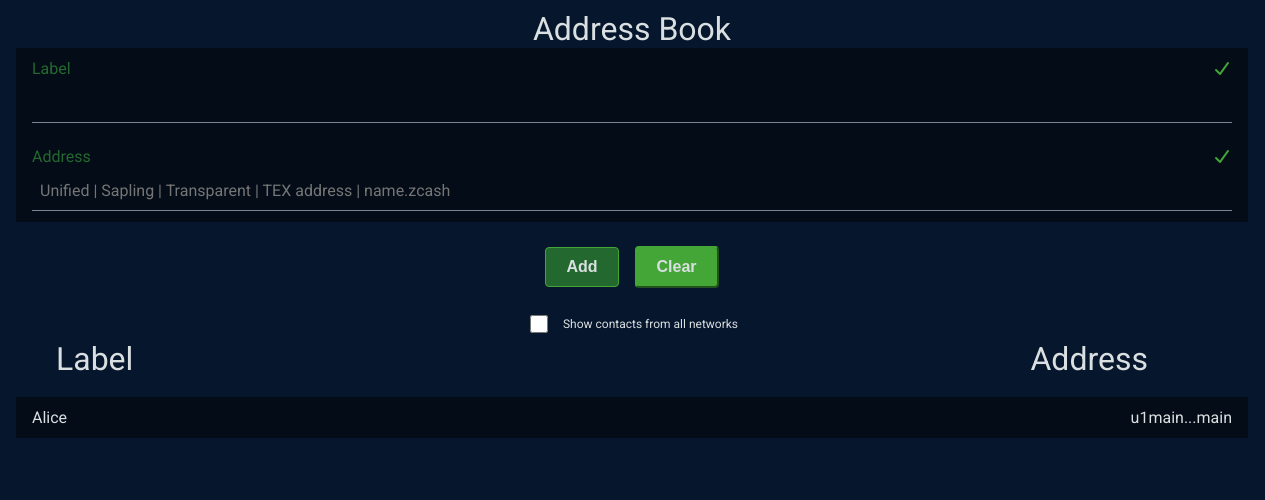
AddressBook › shows entries from all networks when 'Show contacts from all networks' is checked
Expected: the text "Tester" is not shown
Click the checkbox named "Show contacts from all networks": x=539, y=324 [530, 315, 548, 333]
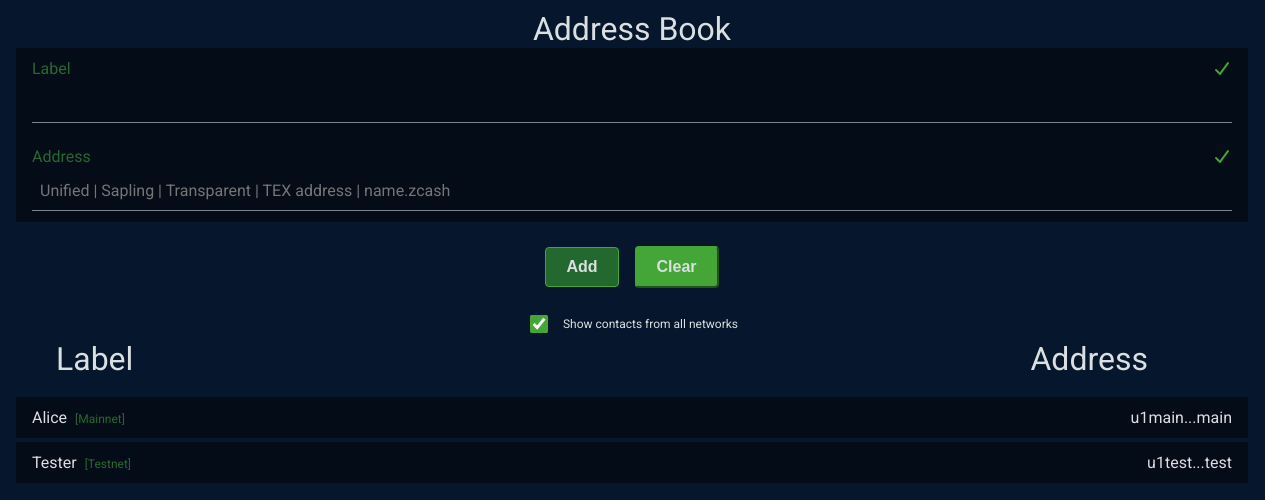
Expected: the text "Tester" is shown, [32, 453, 77, 472]
